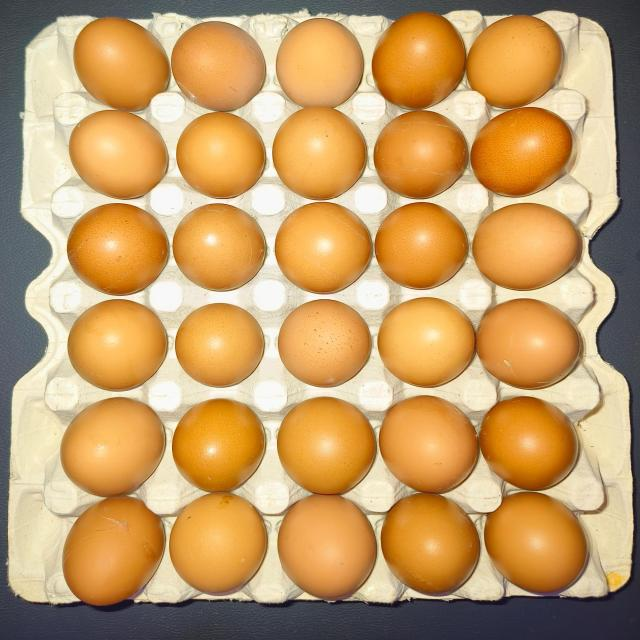Eggs: (64, 109, 168, 199), (475, 110, 578, 195), (277, 204, 372, 296), (70, 302, 166, 392), (68, 206, 168, 292), (266, 112, 368, 196), (468, 12, 563, 102), (177, 301, 266, 394), (172, 22, 266, 110), (375, 110, 468, 198), (74, 19, 169, 105), (179, 205, 264, 295), (176, 115, 265, 199), (382, 14, 464, 104), (278, 18, 360, 104)
